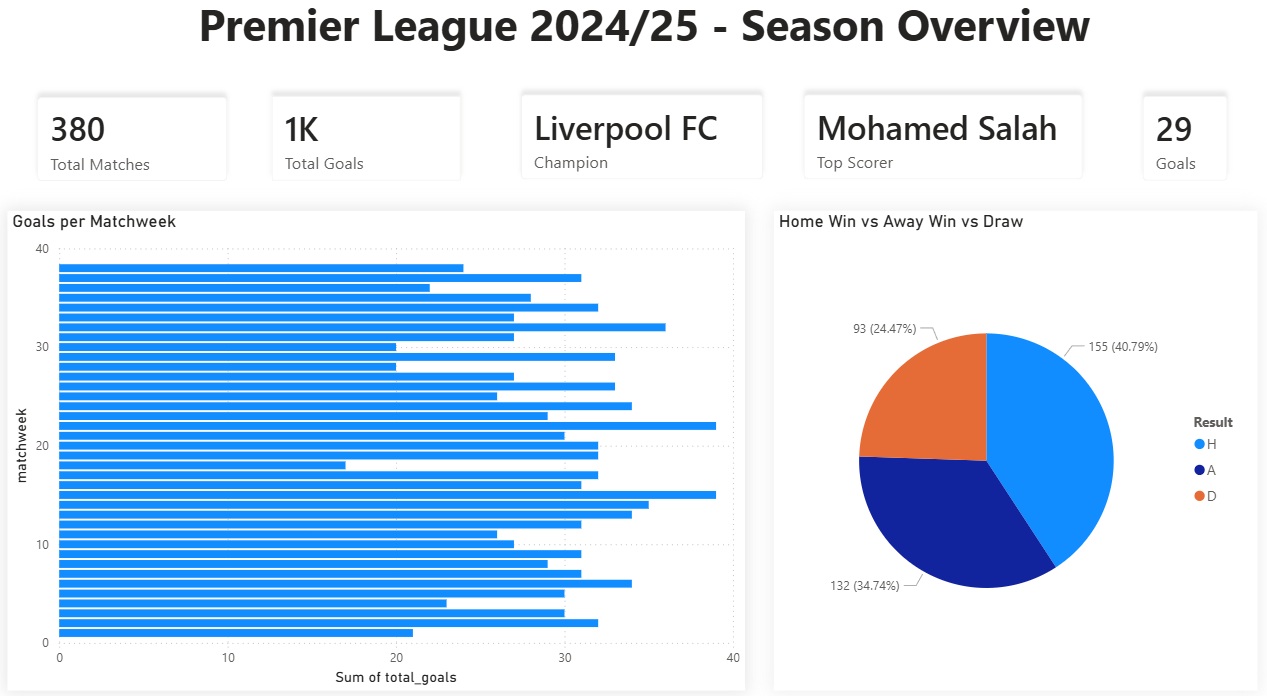

Layout of this report page (visuals, bound fields, positions):
{"tool":"powerbi","page":{"name":"1 - Season Overview","canvas":[1280,720],"ordinal":0},"visuals":[{"type":"cardVisual","fields":{"Data":["Sum(matches.total_goals)"]},"box":[246.8,89.5,243.9,141.4],"z":0},{"type":"cardVisual","fields":{"Data":["CountNonNull(matches.match_id)"]},"box":[16.6,90.2,244.2,140.1],"z":1000},{"type":"cardVisual","fields":{"Data":["Min(standings.team)"]},"box":[490.7,88,295.9,141.4],"z":2000},{"type":"cardVisual","fields":{"Data":["Min(scorers.player_name)"]},"box":[766.4,88,332,141.4],"z":3000},{"type":"cardVisual","fields":{"Data":["Sum(scorers.goals)"]},"box":[1098.3,89.5,141.4,141.4],"z":4000},{"type":"clusteredBarChart","title":"Goals per Matchweek","fields":{"Y":["Sum(matches.total_goals)"],"Category":["matches.matchweek"]},"box":[17.3,230.9,721.6,469.1],"z":5000},{"type":"pieChart","title":"Home Win vs Away Win vs Draw","fields":{"Category":["matches.result"],"Y":["CountNonNull(matches.match_id)"]},"box":[766.4,230.9,473.4,469.1],"z":6000},{"type":"textbox","box":[0,13,1280.2,75.1],"z":7000}]}

Visuals, with their boxes in screenshot pixels (x1, y1, x2, y2), scaled from the page's 1280x720 canvas onto the 1267x696 screenshot:
cardVisual - Sum(matches.total_goals): [244,87,486,223]
cardVisual - CountNonNull(matches.match_id): [16,87,258,223]
cardVisual - Min(standings.team): [486,85,779,222]
cardVisual - Min(scorers.player_name): [759,85,1087,222]
cardVisual - Sum(scorers.goals): [1087,87,1227,223]
"Goals per Matchweek" clusteredBarChart: [17,223,731,677]
"Home Win vs Away Win vs Draw" pieChart: [759,223,1227,677]
textbox: [0,13,1266,85]
